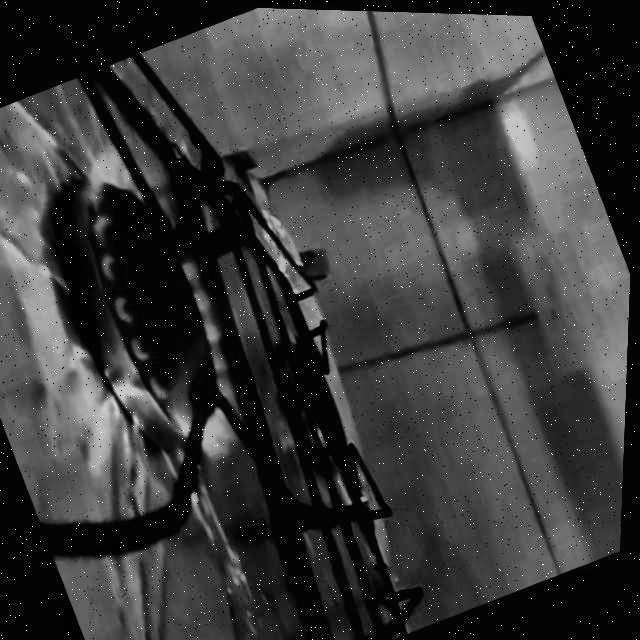Fire: (34, 110, 301, 490)
